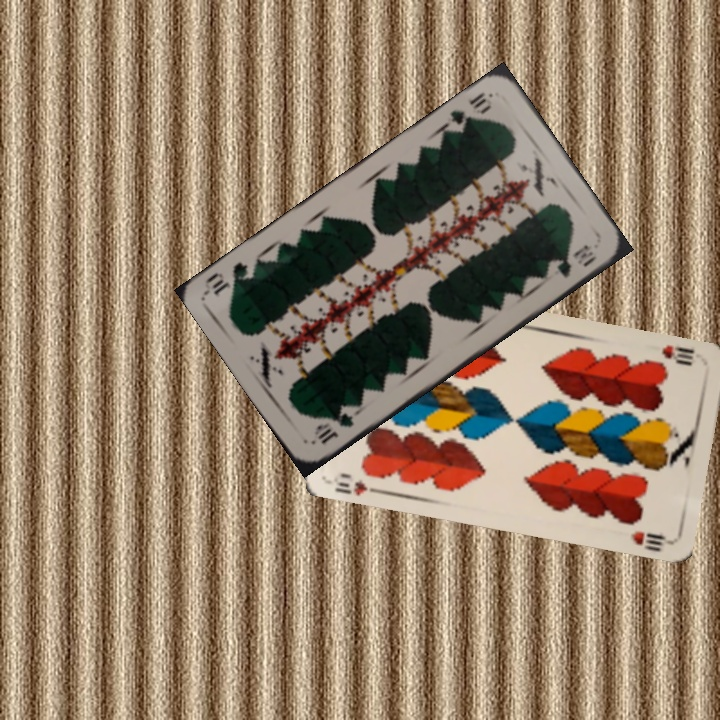G10: (446, 87, 495, 136), (310, 409, 356, 447)
H10: (330, 469, 385, 498), (657, 341, 697, 369)
